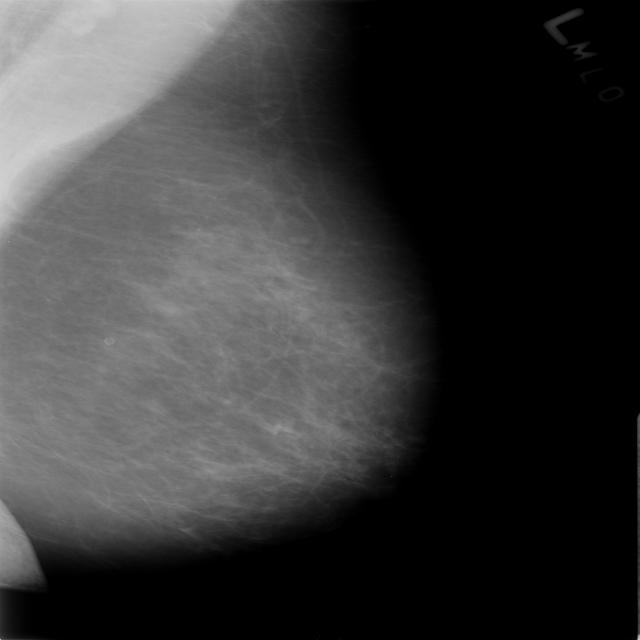normal: (0, 0, 448, 587)
